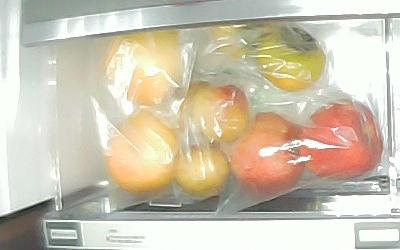apple_vinyl: (299, 98, 383, 183), (226, 112, 303, 195)
grapefruit_vinyl: (102, 28, 182, 107), (105, 111, 178, 192)
persimmon_vinyl: (256, 21, 326, 92)
prune_vinyl: (190, 84, 250, 140), (176, 142, 228, 197)
